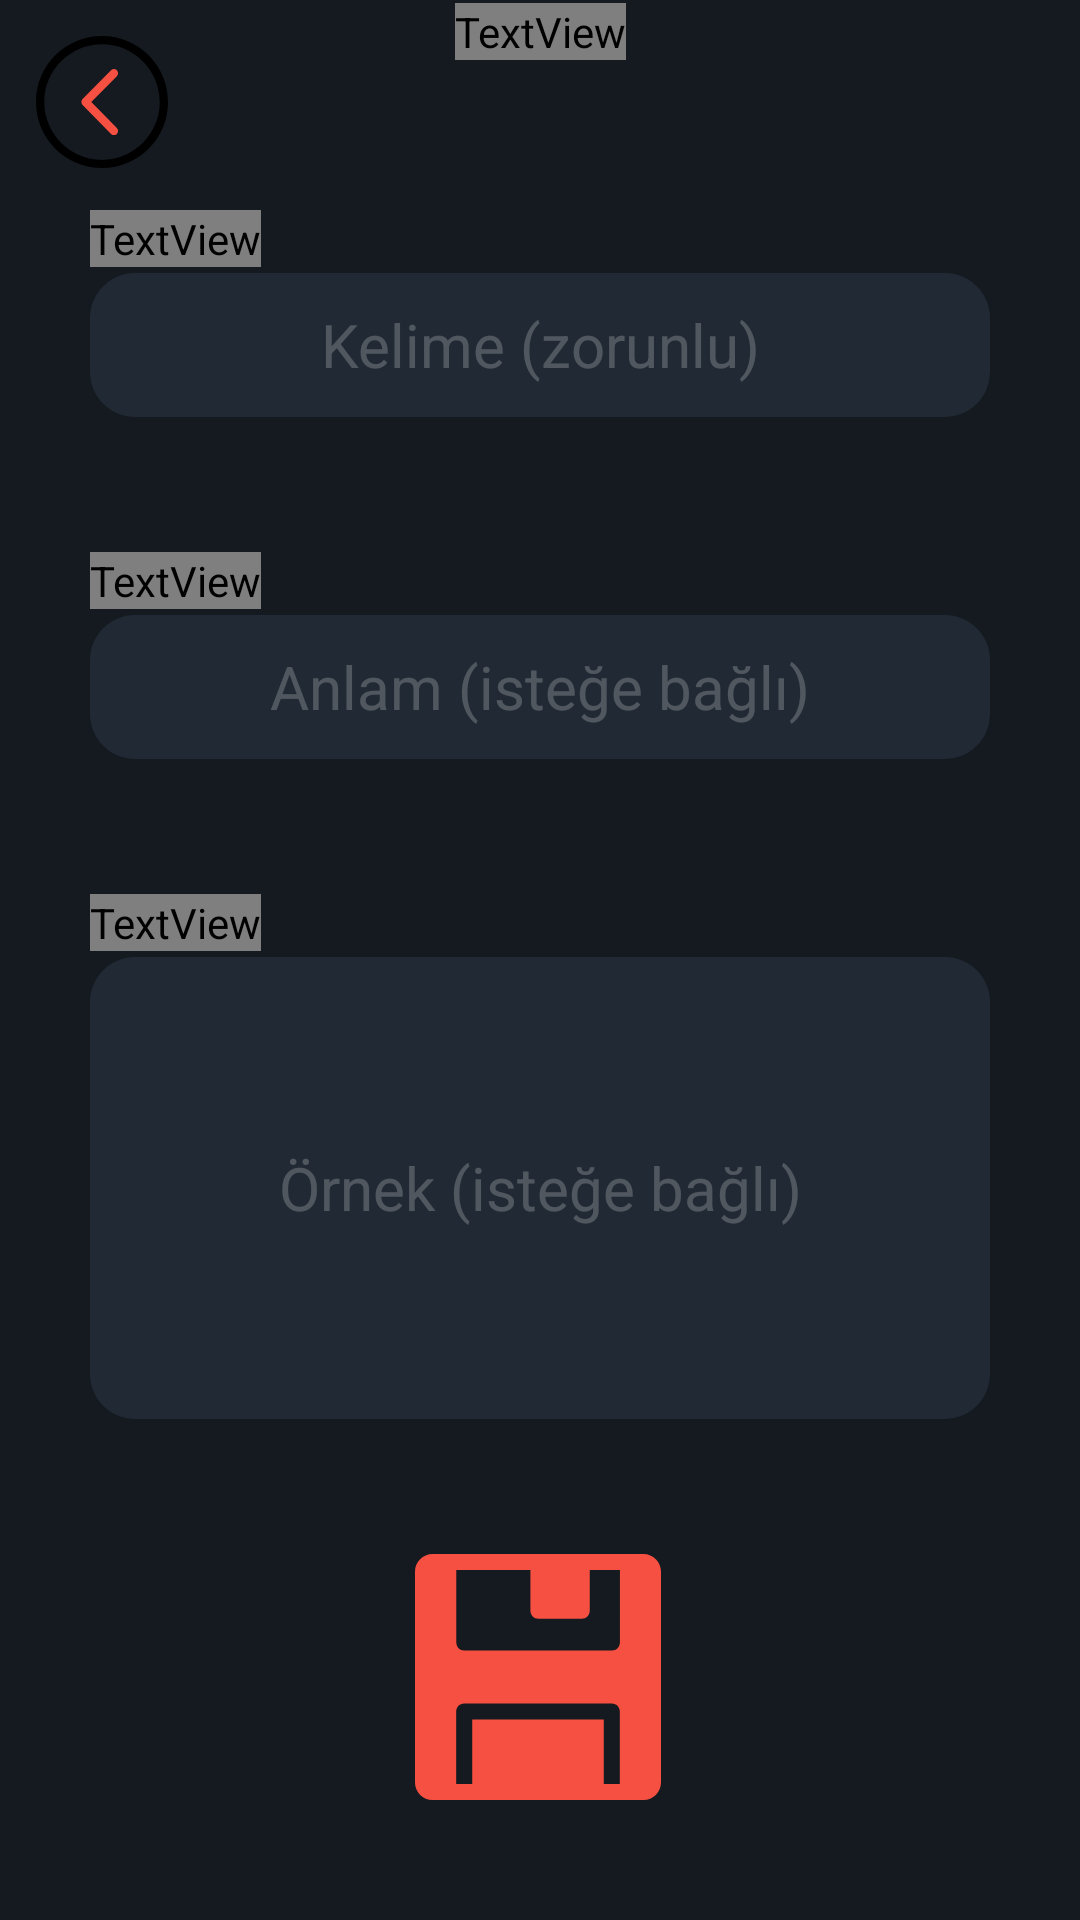

Icon bounding boxes for this 1080 x 1920 phone screenshot, format bbox(x1, y1, x2, y2):
back: bbox(36, 36, 168, 168)
save: bbox(415, 1554, 661, 1800)
